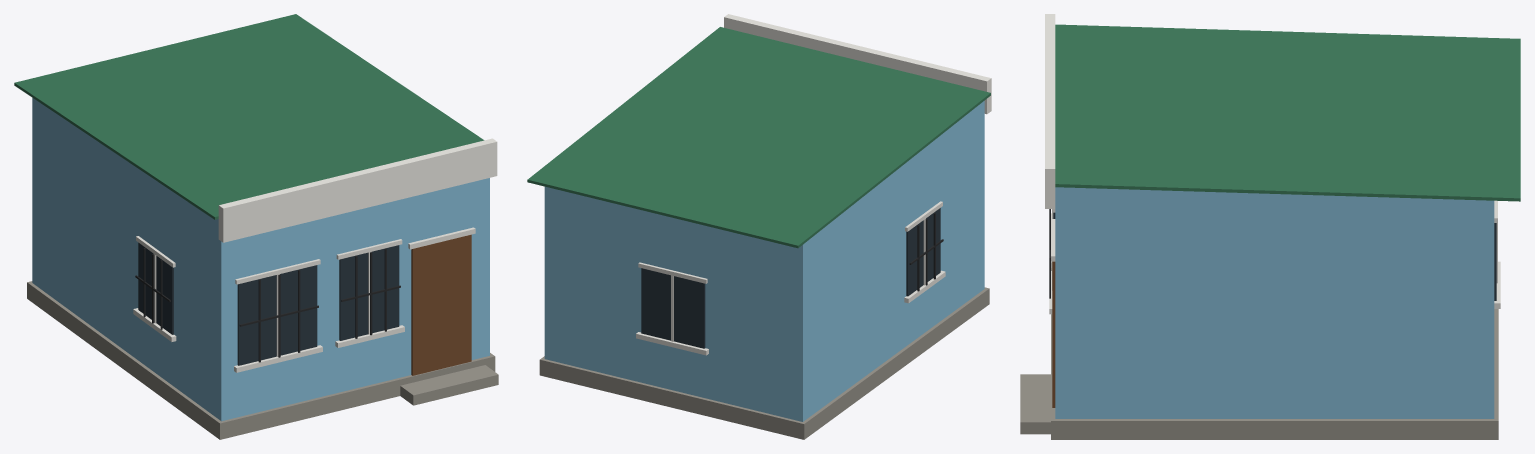
File: BAY_F_Shop_L.glb
3 renders of one model, left to right at view 1: azimuth 30°, elevation 25°; view 2: azimuth 150°, elevation 25°; view 3: azimuth 270°, elevation 25°, orthographic. The views are drawn at different scales.
Visible parts, largest first — view 1: BAY_F_Shop_L; view 2: BAY_F_Shop_L; view 3: BAY_F_Shop_L.
Boxes of the visible parts, left/top/right/bottom form: BAY_F_Shop_L: left=14, top=14, right=498, bottom=439; BAY_F_Shop_L: left=527, top=14, right=991, bottom=439; BAY_F_Shop_L: left=1020, top=14, right=1520, bottom=439.
Size of the model in its own units: 4.3 by 3.4 by 5.7.
1 material, 1 textured.
